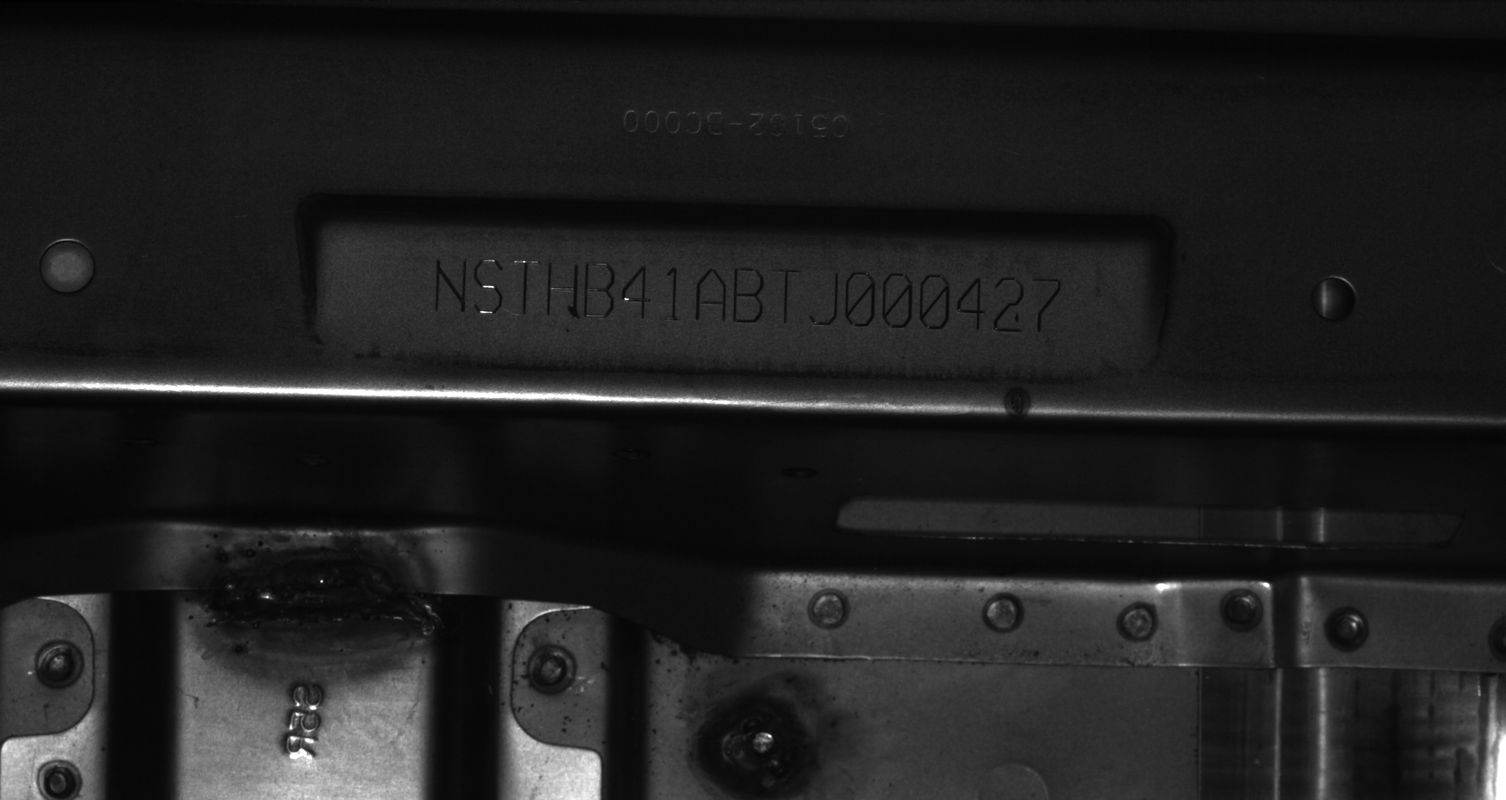bl7m_vin_plate: (321, 223, 1158, 384)
